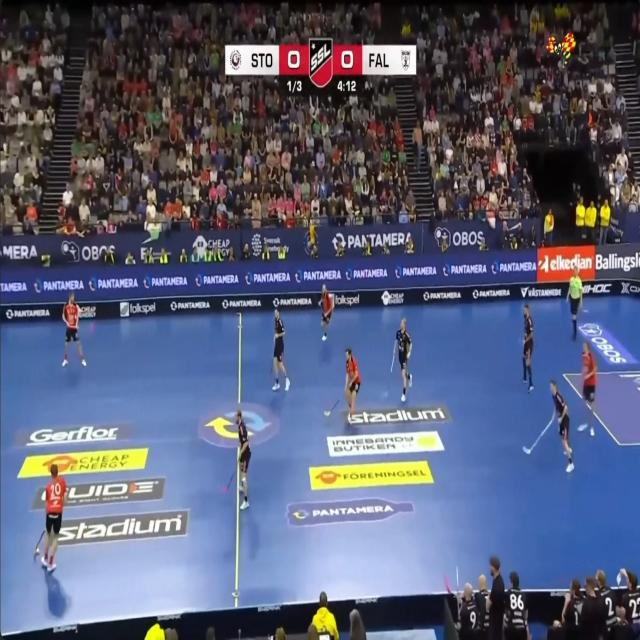player: (41, 463, 66, 571), (550, 380, 573, 472), (578, 341, 597, 436), (62, 292, 86, 366), (504, 573, 527, 639), (236, 409, 250, 509), (272, 309, 289, 390), (396, 317, 412, 401), (458, 583, 481, 639), (345, 348, 361, 423), (567, 268, 583, 339), (620, 569, 640, 624), (523, 304, 533, 392), (319, 284, 333, 341)
stick: (523, 417, 554, 453), (445, 566, 461, 615), (222, 469, 236, 492), (456, 565, 462, 617), (34, 529, 44, 556), (324, 399, 339, 416), (390, 344, 395, 372), (445, 575, 452, 593), (270, 355, 276, 376), (383, 380, 390, 397), (578, 422, 587, 431), (456, 566, 459, 592), (585, 402, 592, 412)
